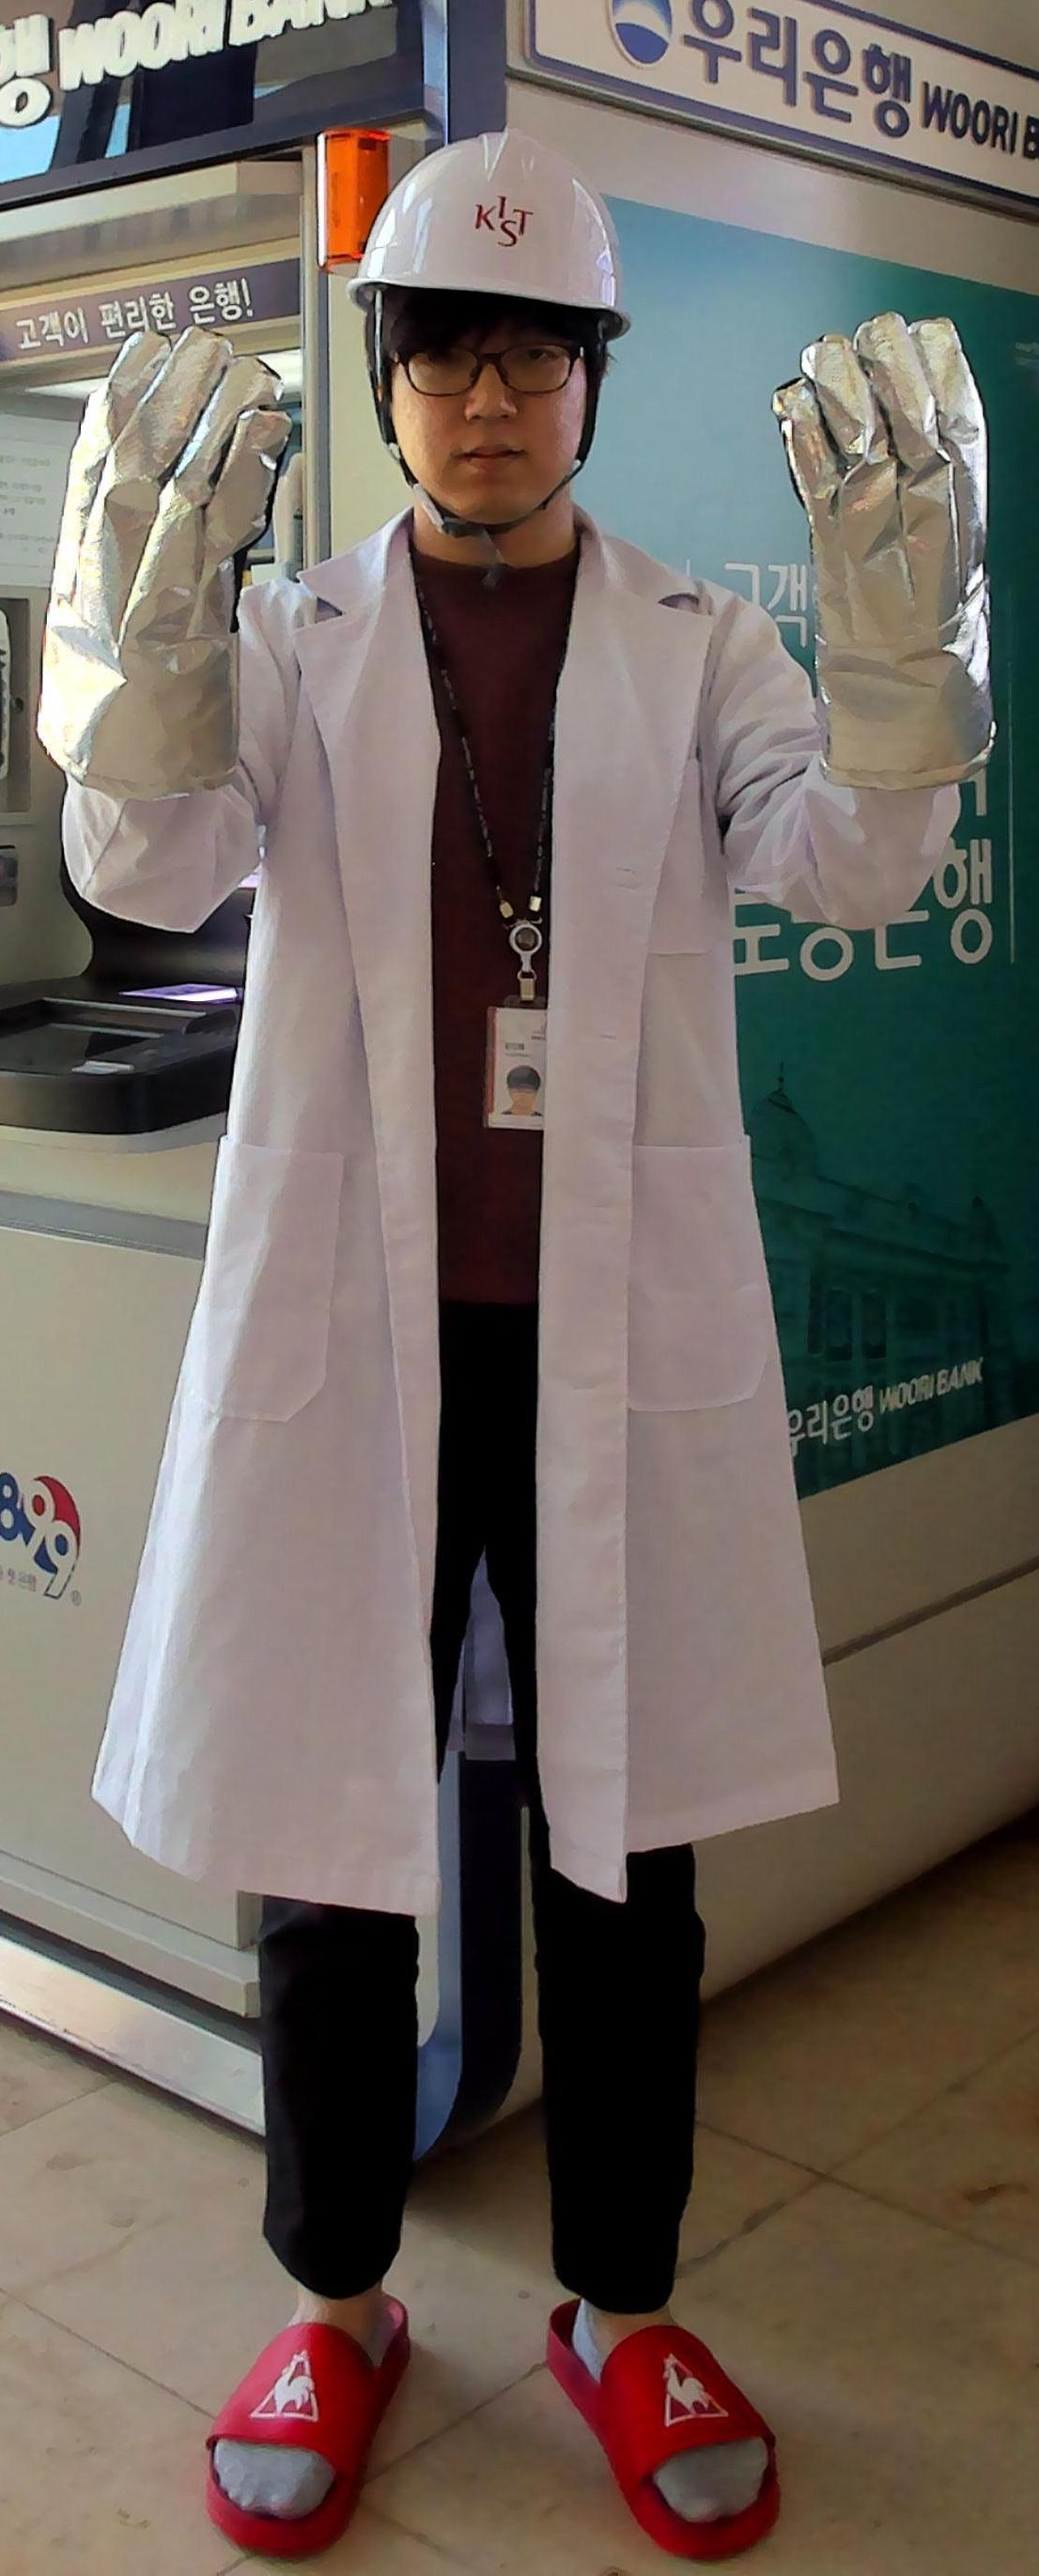lab_coat: (210, 619, 814, 1902)
